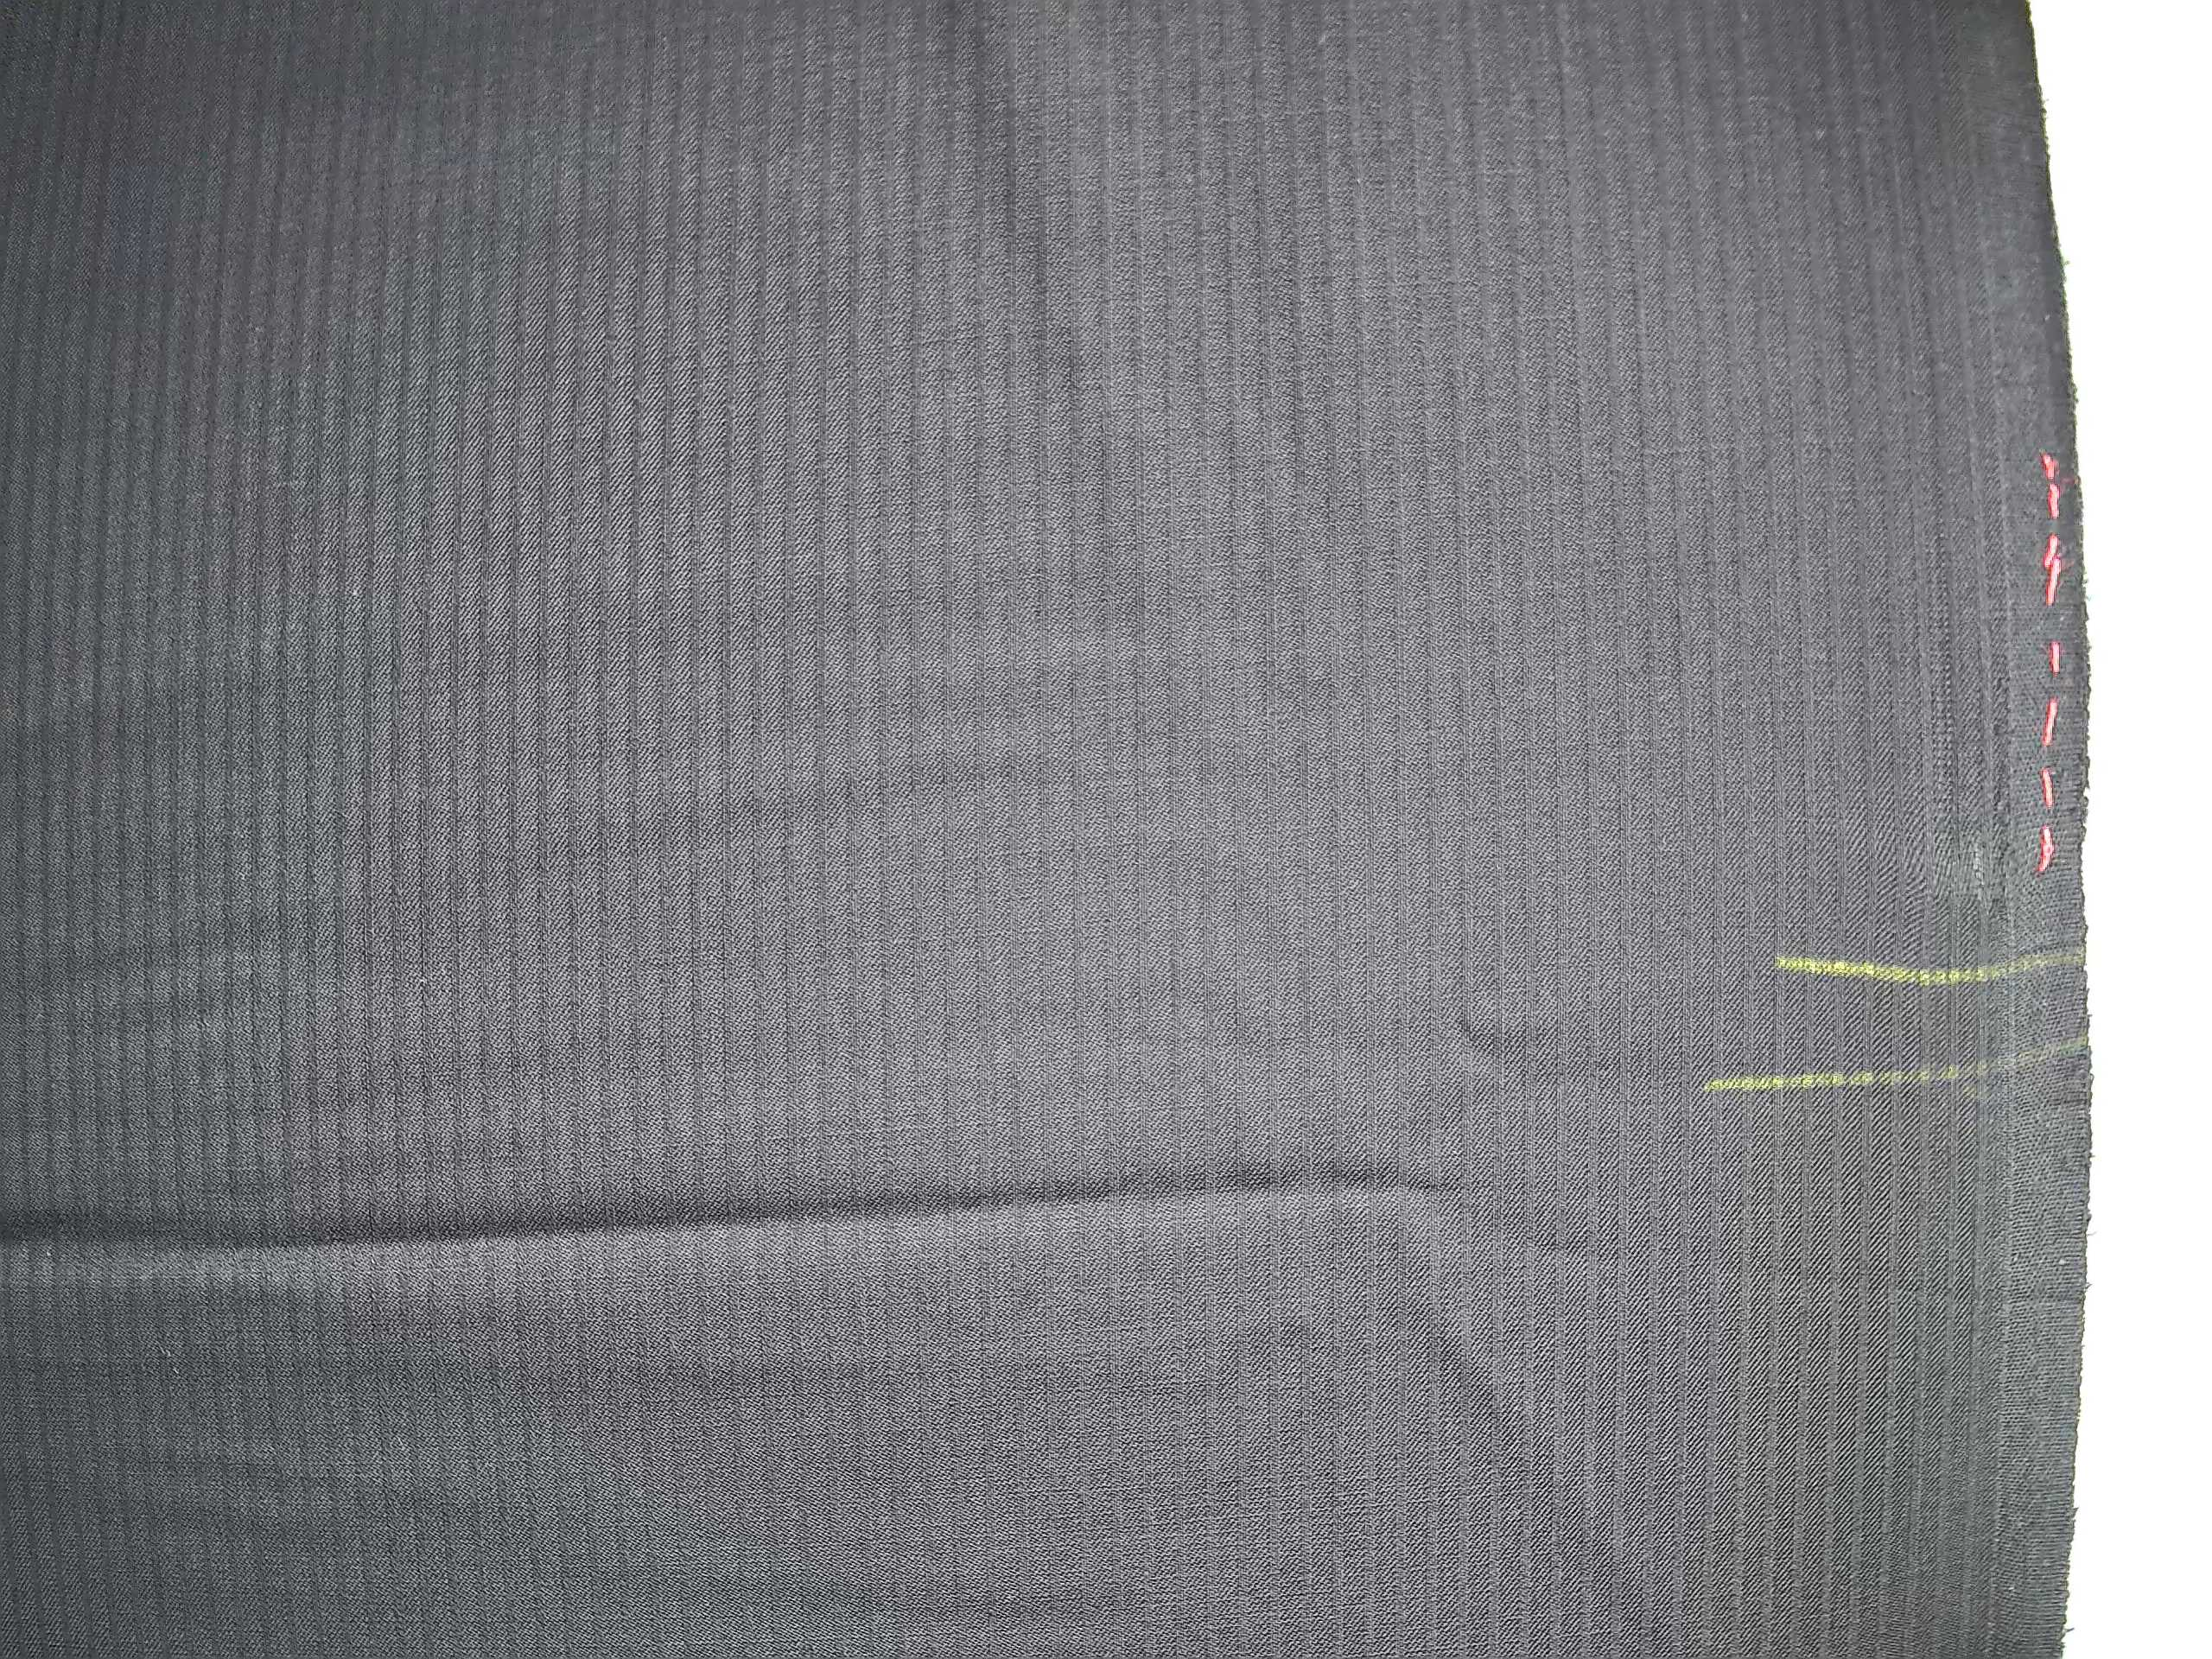thin-spinning: (1925, 582, 2024, 962)
